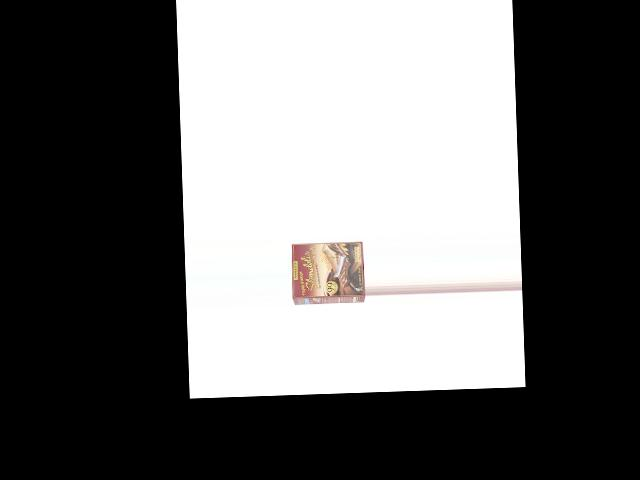chocolate: (289, 234, 366, 308)
